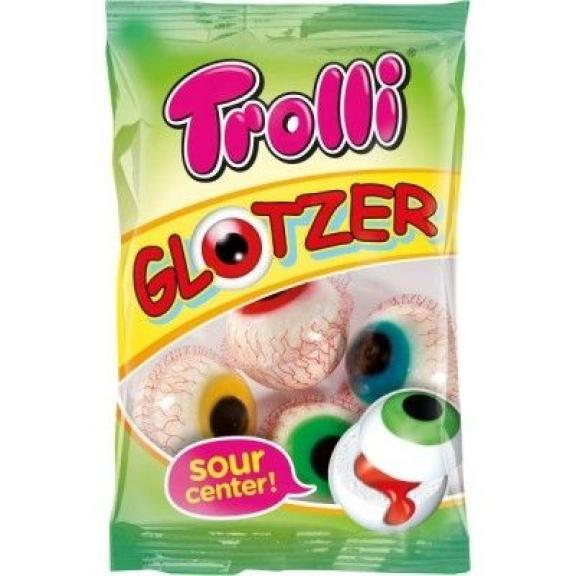Plastik: (99, 0, 479, 574)
